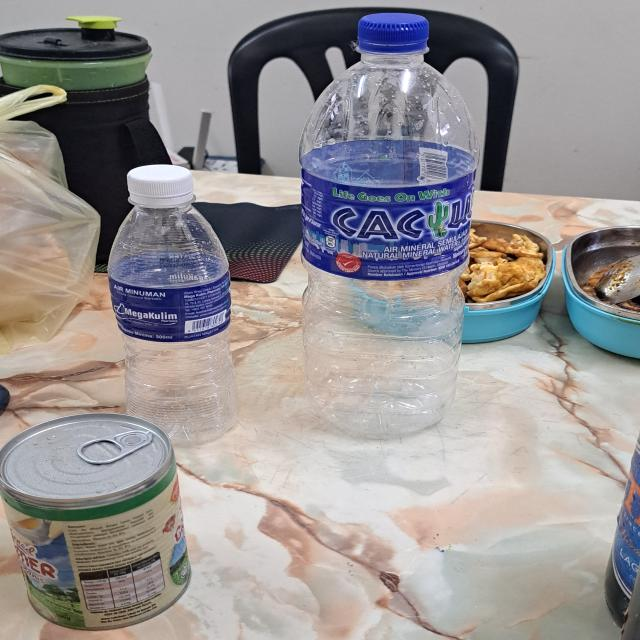can: (0, 414, 196, 630), (78, 426, 157, 468)
plastic bottle: (300, 9, 478, 438), (108, 164, 239, 447)
plastic bottle cap: (357, 12, 431, 54), (126, 164, 196, 207)
